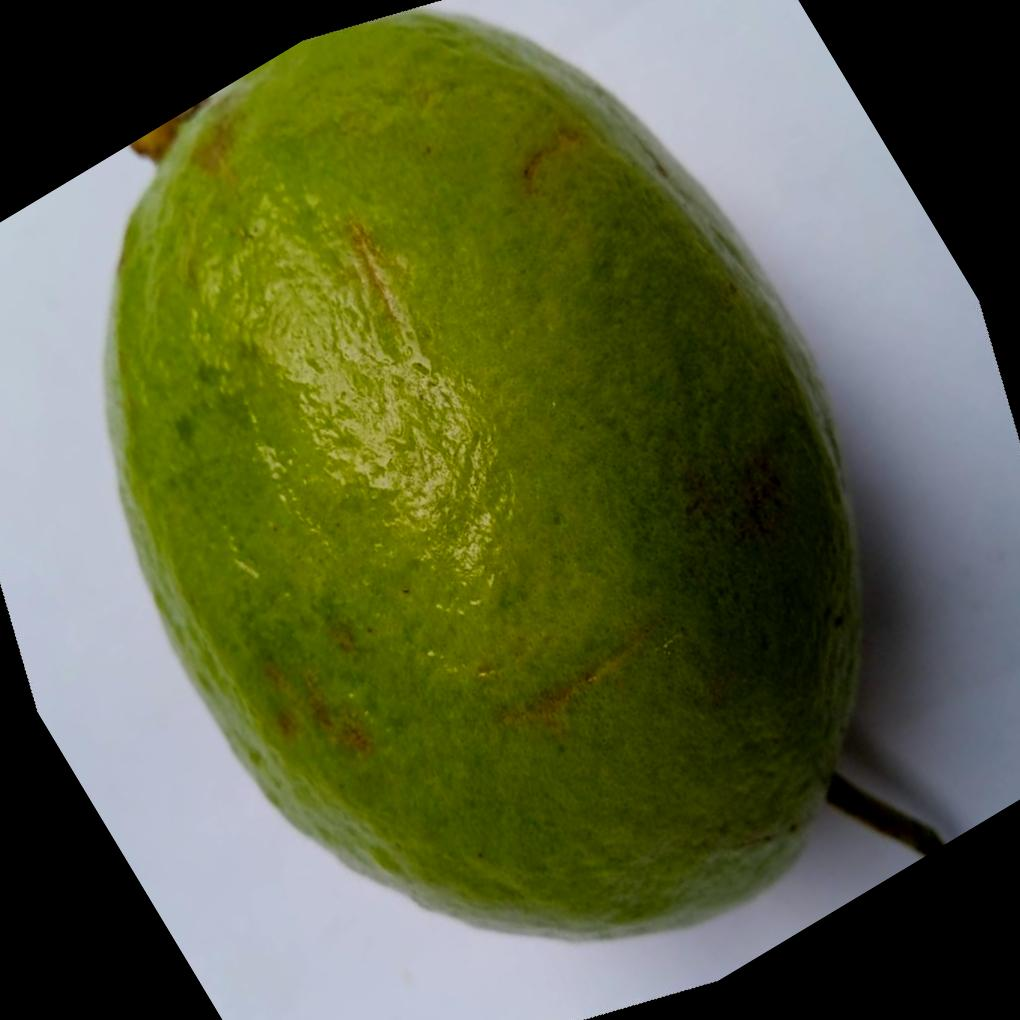FreshGuava: (99, 4, 863, 944)
